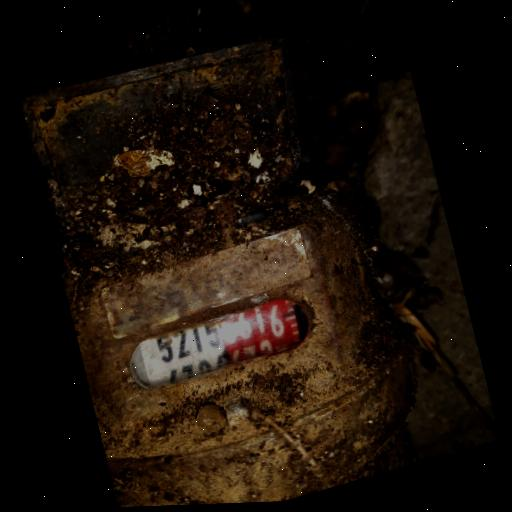1: (187, 321, 218, 377), (248, 303, 276, 358)
2: (170, 326, 200, 382)
5: (152, 331, 182, 386), (204, 317, 232, 372)
6: (218, 312, 247, 368), (232, 308, 261, 363), (262, 299, 291, 354)
border_water_meter_number: (124, 293, 314, 395)
